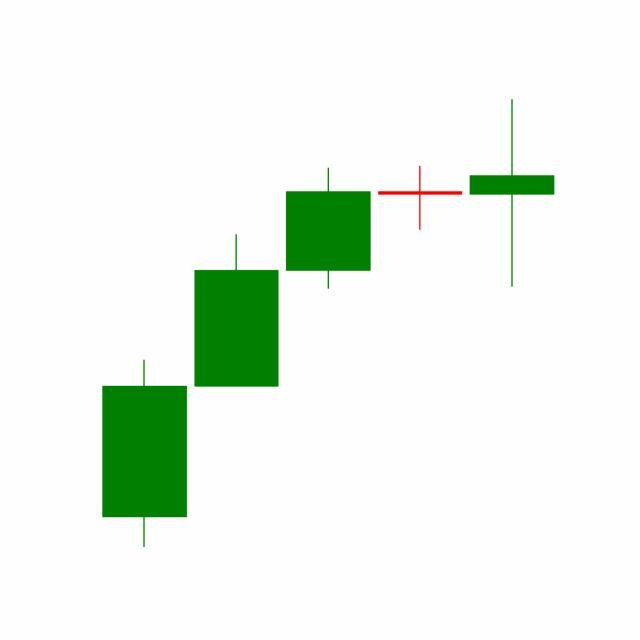Spinning Top: (374, 166, 468, 232)
